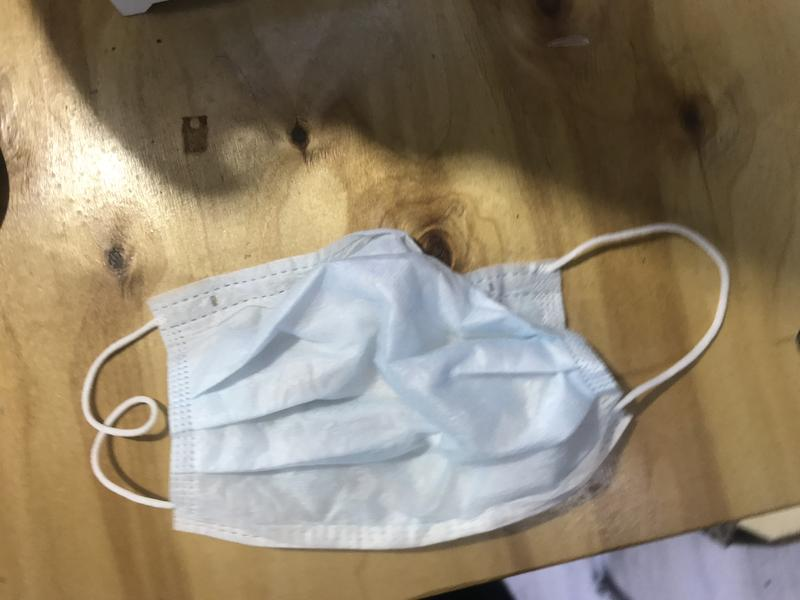medical_mask: (83, 230, 725, 549)
